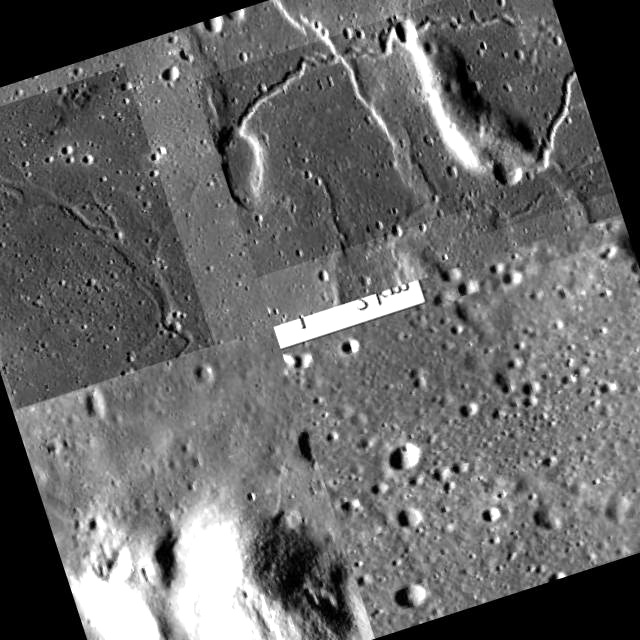crater: (194, 0, 568, 277), (0, 66, 215, 408), (500, 236, 640, 565), (468, 160, 613, 237), (506, 60, 600, 174)
